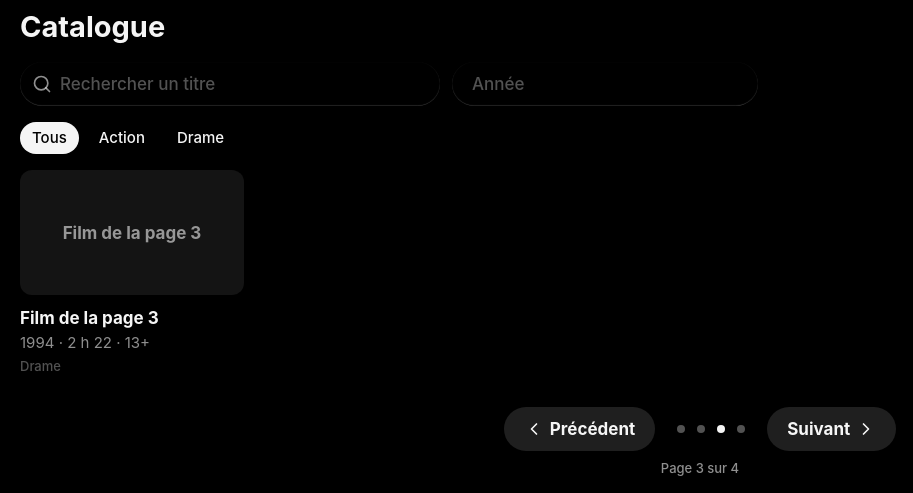
Test case: filtres du catalogue (spec 09) › filtre par genre au clic, en page 1, et « Tous » retire le filtre
What coordinates should you click on to do the following:
click the button "Drame"
I would click on:
 (201, 138)
Its box is [165,122,236,154].
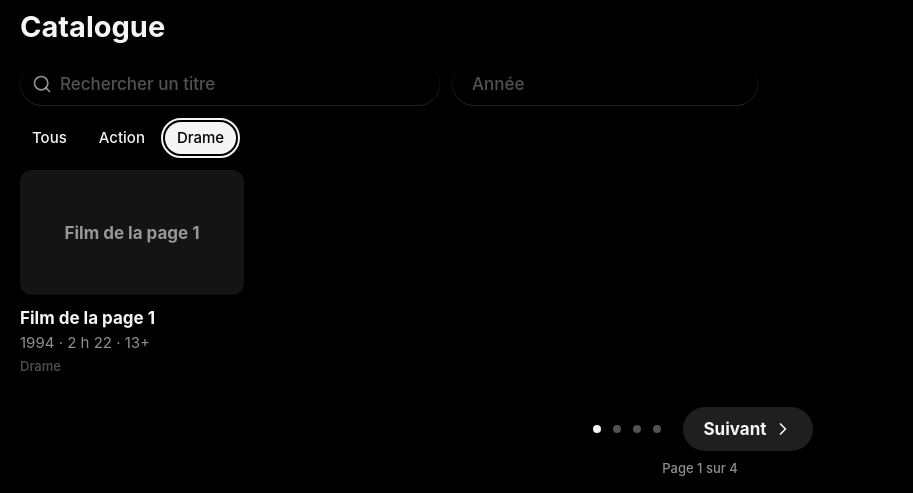
Result: the button "Drame" is pressed at [165,122,236,154]
Result: the button "Tous" is not pressed
What coordinates should you click on to do the following:
click the button "Tous"
I would click on:
 (49, 138)
Its box is [20,122,79,154].
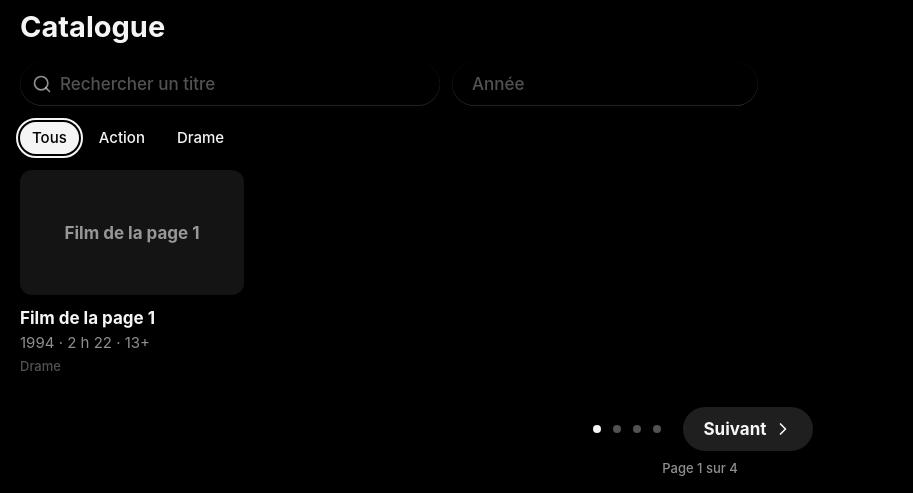
Result: the button "Tous" is pressed at [20,122,79,154]
